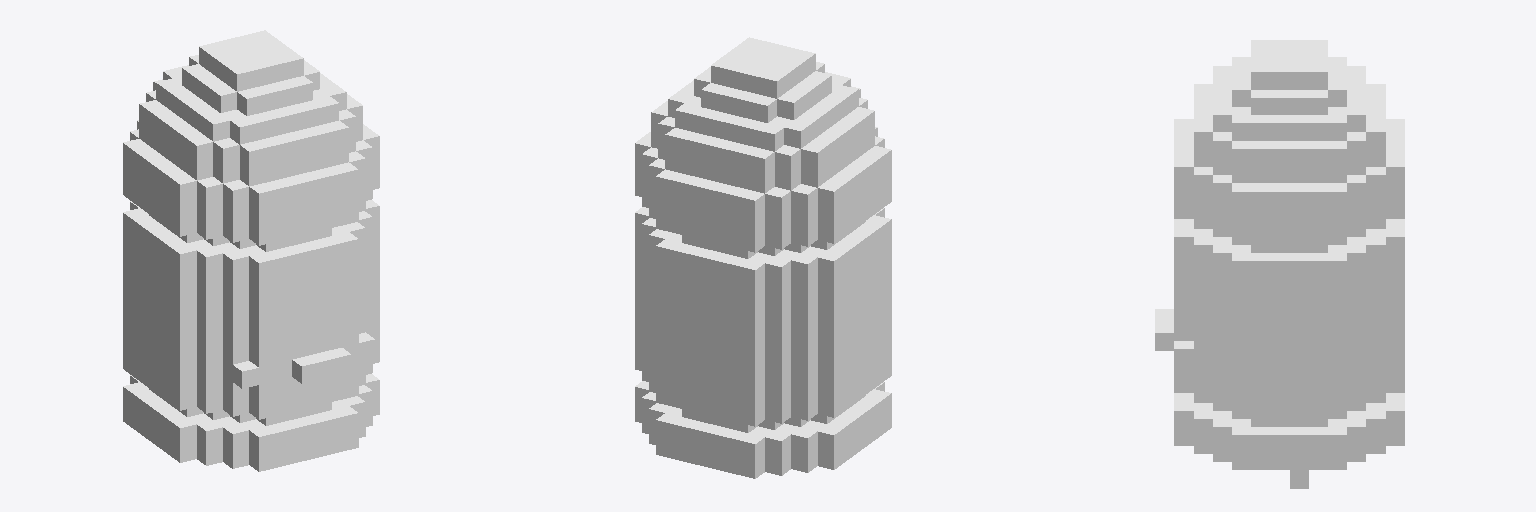
File: LeftLegMissing.obj
3 views of the same model, side by side, from view 1: azimuth 30°, elevation 25°; view 2: azimuth 150°, elevation 25°; view 3: azimuth 270°, elevation 25° (orthographic).
Visible parts, largest first — view 1: object 1; view 2: object 1; view 3: object 1.
Boxes of the visible parts, x1,y1,x2,y2 form: object 1: [123, 30, 379, 471]; object 1: [635, 37, 891, 478]; object 1: [1155, 40, 1404, 488].
Size of the model in its own units: 1.2 by 2.3 by 1.3.